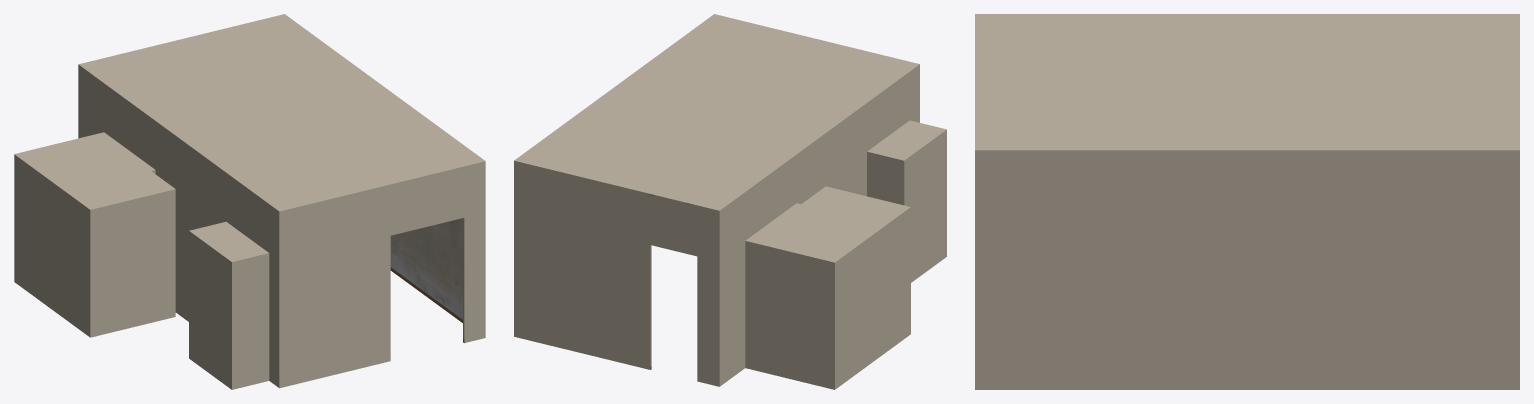
File: room layout03.fbx
The picture shows the model from 3 angles, left to right: view 1: azimuth 30°, elevation 25°; view 2: azimuth 150°, elevation 25°; view 3: azimuth 270°, elevation 25°; orthographic projection. The views are drawn at different scales.
Visible parts, largest first — view 1: Room_layout; view 2: Room_layout; view 3: Room_layout.
Part boxes in pixels (x1,y1,x2,y2): Room_layout: (14, 14, 485, 389); Room_layout: (514, 14, 946, 389); Room_layout: (975, 14, 1519, 389).
Bounding box in the file's own units: 5.33 × 3.04 × 6.27.
